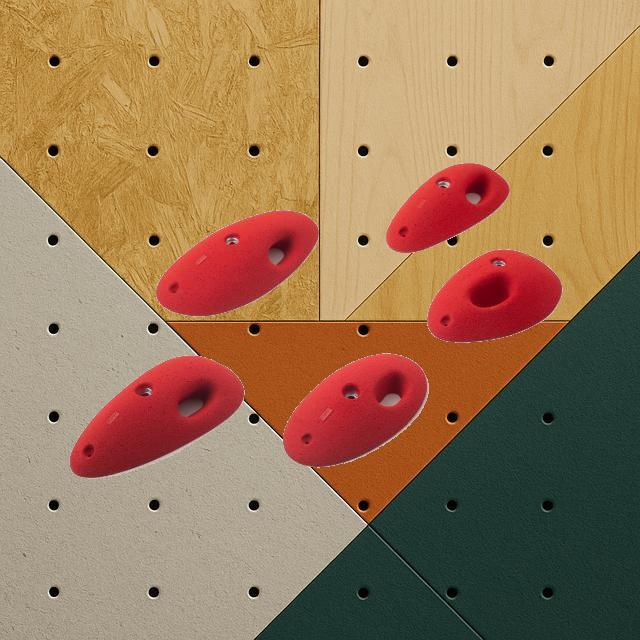Pocket: (68, 355, 244, 479), (154, 209, 318, 317), (282, 352, 428, 466), (426, 248, 562, 342), (384, 162, 510, 252)
